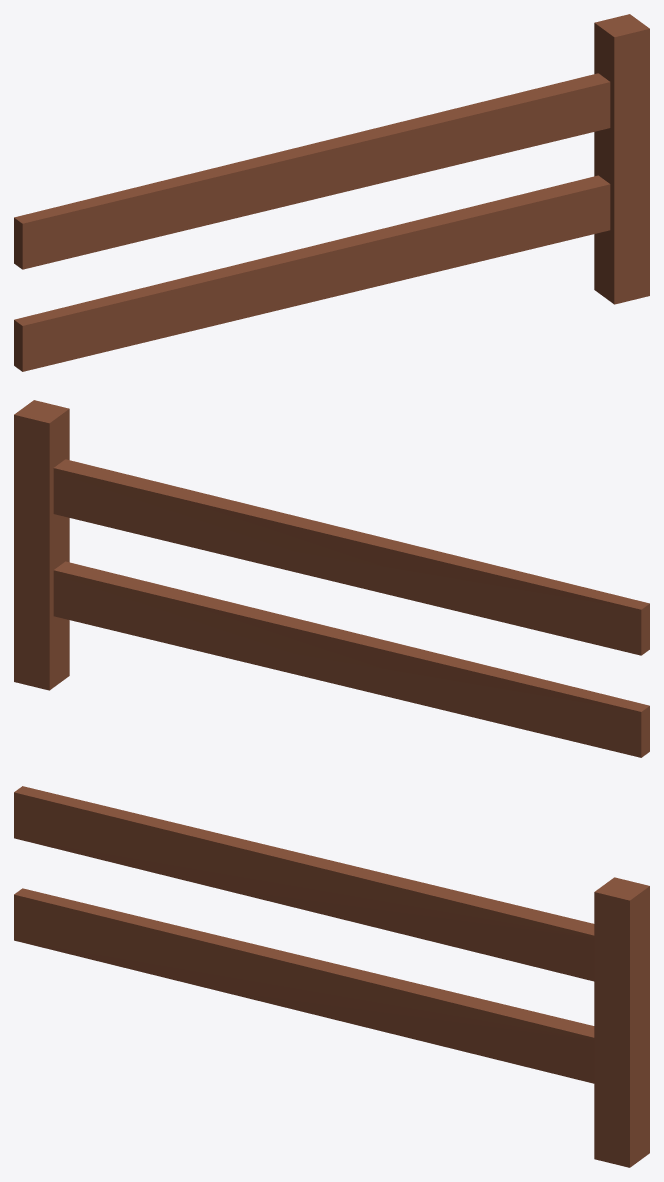
The model's file is fence.simple.close.L.glb.
3 views of the same model, one above another, from view 1: azimuth 30°, elevation 25°; view 2: azimuth 150°, elevation 25°; view 3: azimuth 330°, elevation 25° (orthographic).
Visible parts, largest first — view 1: fence.simple.close.L; view 2: fence.simple.close.L; view 3: fence.simple.close.L.
Boxes of the visible parts, box(x1,y1,x2,y2) form: fence.simple.close.L: box(14, 14, 649, 371); fence.simple.close.L: box(14, 400, 649, 757); fence.simple.close.L: box(14, 786, 649, 1167).
Bounding box in the file's own units: 2.96 × 1.21 × 0.1655.
